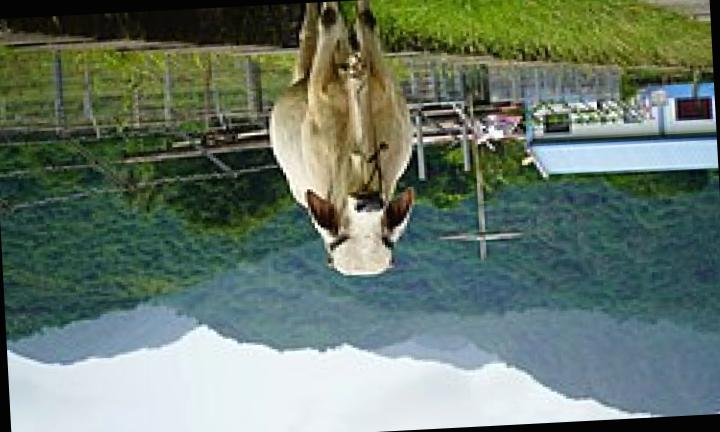Brahman: (270, 2, 411, 275)
